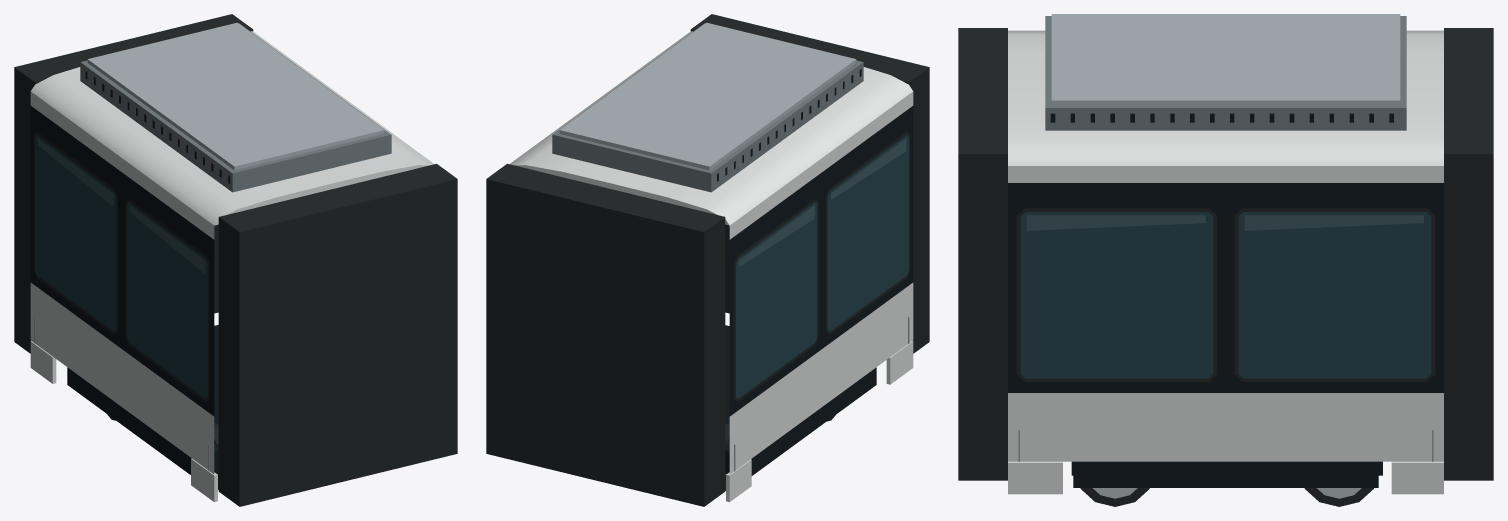
The model's file is 52t-d-viewer.glb.
3 views of the same model, side by side, from view 1: azimuth 30°, elevation 25°; view 2: azimuth 150°, elevation 25°; view 3: azimuth 270°, elevation 25° (orthographic). The views are drawn at different scales.
Visible parts, largest first — view 1: 52t-d; view 2: 52t-d; view 3: 52t-d.
Part boxes in pixels (x1,y1,x2,y2): 52t-d: [14, 14, 457, 506]; 52t-d: [486, 14, 929, 506]; 52t-d: [958, 14, 1493, 506].
Bounding box in the file's own units: 2.52 × 3.59 × 4.3.
